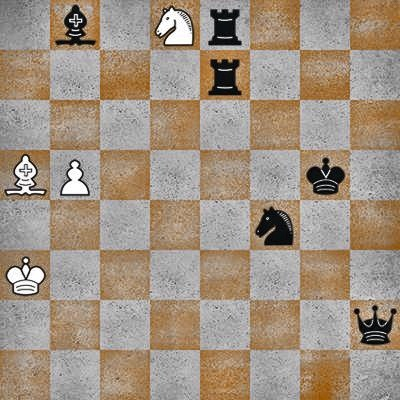black-bishop: (50, 0, 100, 50)
black-king: (300, 150, 350, 200)
black-knight: (250, 200, 300, 250)
black-queen: (350, 300, 400, 350)
black-rook: (200, 0, 250, 50), (200, 50, 250, 100)
white-bishop: (0, 150, 50, 200)
white-king: (0, 250, 50, 300)
white-knight: (150, 0, 200, 50)
white-pawn: (50, 150, 100, 200)
